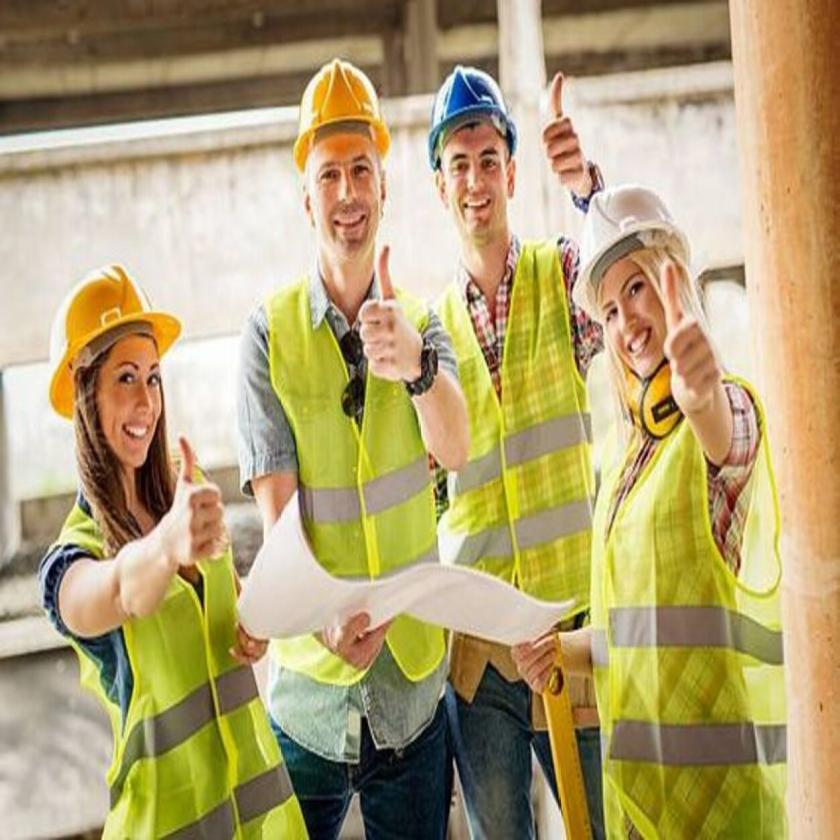Con_casco: (50, 262, 180, 475), (572, 181, 695, 385), (290, 59, 398, 276), (422, 68, 522, 246)
